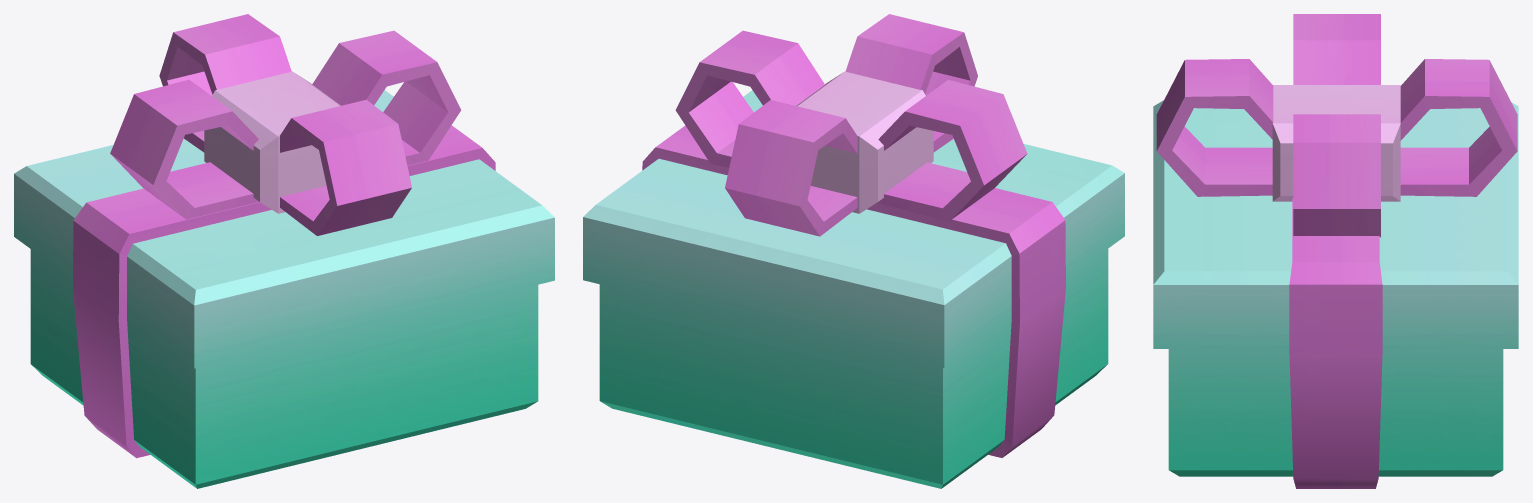
The model's file is n-present.glb.
3 renders of one model, left to right at view 1: azimuth 30°, elevation 25°; view 2: azimuth 150°, elevation 25°; view 3: azimuth 270°, elevation 25°, orthographic.
Visible parts, largest first — view 1: Present_Box_Color_00(Clone); view 2: Present_Box_Color_00(Clone); view 3: Present_Box_Color_00(Clone).
Part boxes in pixels (bbox=[...]): Present_Box_Color_00(Clone): bbox=[14, 14, 554, 488]; Present_Box_Color_00(Clone): bbox=[583, 14, 1124, 488]; Present_Box_Color_00(Clone): bbox=[1153, 14, 1518, 488].
Bounding box in the file's own units: 0.7501 × 0.6173 × 0.6203.
Materials: 1 (1 with a texture image).
